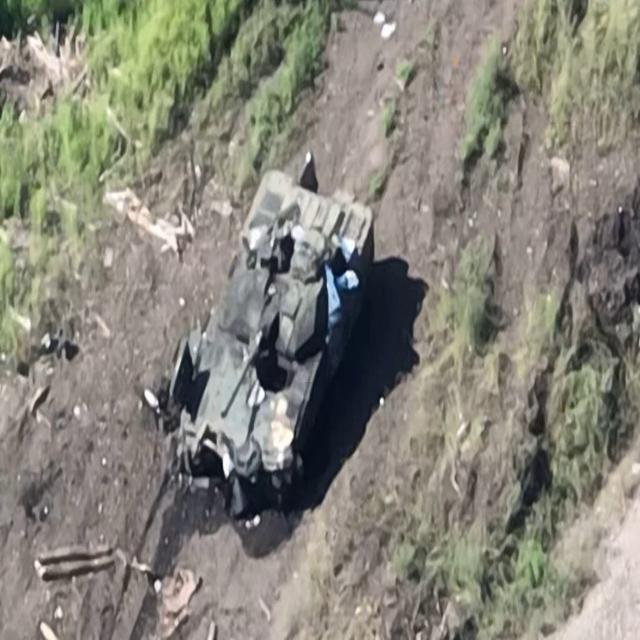AIFV: (173, 156, 378, 509)
